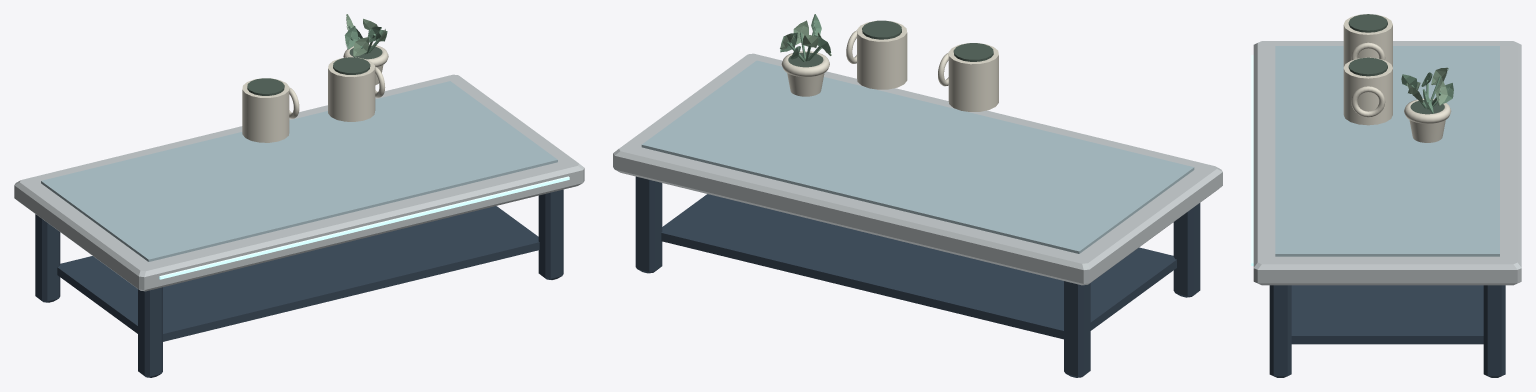
The model's file is v18_interior_tea_table.glb.
3 views of the same model, side by side, from view 1: azimuth 30°, elevation 25°; view 2: azimuth 150°, elevation 25°; view 3: azimuth 270°, elevation 25° (orthographic). The views are drawn at different scales.
Visible parts, largest first — view 1: _MeshInstance3D_4769, _MeshInstance3D_4770, _MeshInstance3D_4768, _MeshInstance3D_4772, _MeshInstance3D_4775, _MeshInstance3D_4767, _MeshInstance3D_4765, _MeshInstance3D_4764, _MeshInstance3D_4771, _MeshInstance3D_4773, _MeshInstance3D_4776; view 2: _MeshInstance3D_4769, _MeshInstance3D_4770, _MeshInstance3D_4768, _MeshInstance3D_4775, _MeshInstance3D_4772, _MeshInstance3D_4766, _MeshInstance3D_4764, _MeshInstance3D_4765, _MeshInstance3D_4778, _MeshInstance3D_4776, _MeshInstance3D_4773, _MeshInstance3D_4779; view 3: _MeshInstance3D_4769, _MeshInstance3D_4768, _MeshInstance3D_4770, _MeshInstance3D_4775, _MeshInstance3D_4767, _MeshInstance3D_4766, _MeshInstance3D_4772, _MeshInstance3D_4778, _MeshInstance3D_4771, _MeshInstance3D_4773, _MeshInstance3D_4776, _MeshInstance3D_4779 (+3 smaller).
Part boxes in pixels (<box>): _MeshInstance3D_4769: <box>41,81,557,261</box>; _MeshInstance3D_4770: <box>57,206,539,341</box>; _MeshInstance3D_4768: <box>14,74,584,291</box>; _MeshInstance3D_4772: <box>242,78,289,142</box>; _MeshInstance3D_4775: <box>328,57,375,121</box>; _MeshInstance3D_4767: <box>538,189,563,279</box>; _MeshInstance3D_4765: <box>138,287,162,377</box>; _MeshInstance3D_4764: <box>35,214,60,302</box>; _MeshInstance3D_4771: <box>159,176,569,279</box>; _MeshInstance3D_4773: <box>247,78,284,95</box>; _MeshInstance3D_4776: <box>333,57,370,74</box>; _MeshInstance3D_4769: <box>641,60,1194,253</box>; _MeshInstance3D_4770: <box>661,194,1176,339</box>; _MeshInstance3D_4768: <box>613,53,1222,285</box>; _MeshInstance3D_4775: <box>857,20,907,89</box>; _MeshInstance3D_4772: <box>948,43,998,111</box>; _MeshInstance3D_4766: <box>635,176,662,273</box>; _MeshInstance3D_4764: <box>1064,281,1090,377</box>; _MeshInstance3D_4765: <box>1173,203,1200,297</box>; _MeshInstance3D_4778: <box>787,73,824,96</box>; _MeshInstance3D_4776: <box>862,20,901,39</box>; _MeshInstance3D_4773: <box>953,43,993,61</box>; _MeshInstance3D_4779: <box>781,51,829,76</box>; _MeshInstance3D_4769: <box>1275,46,1499,256</box>; _MeshInstance3D_4768: <box>1253,41,1521,285</box>; _MeshInstance3D_4770: <box>1291,285,1483,344</box>; _MeshInstance3D_4775: <box>1343,57,1392,125</box>; _MeshInstance3D_4767: <box>1269,285,1291,377</box>; _MeshInstance3D_4766: <box>1483,285,1505,377</box>; _MeshInstance3D_4772: <box>1343,14,1392,67</box>; _MeshInstance3D_4778: <box>1409,120,1445,142</box>; _MeshInstance3D_4771: <box>1251,55,1253,265</box>; _MeshInstance3D_4773: <box>1348,14,1387,32</box>; _MeshInstance3D_4776: <box>1348,57,1387,76</box>; _MeshInstance3D_4779: <box>1404,98,1451,123</box>.
Bounding box in the file's own units: 1.96 × 0.9855 × 0.9886.
